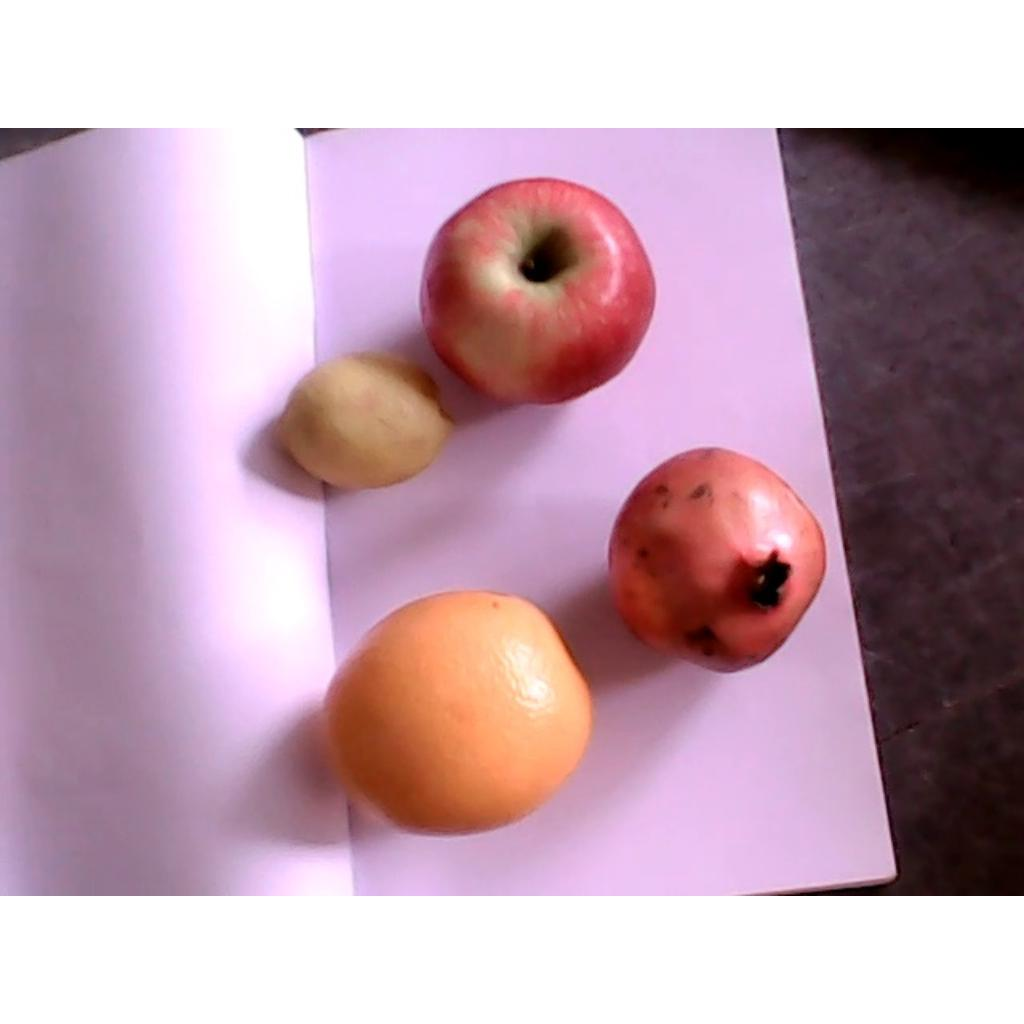apple: (419, 177, 657, 408)
lemon: (268, 350, 458, 488)
orange: (323, 591, 591, 834)
pomegranate: (603, 450, 832, 672)
